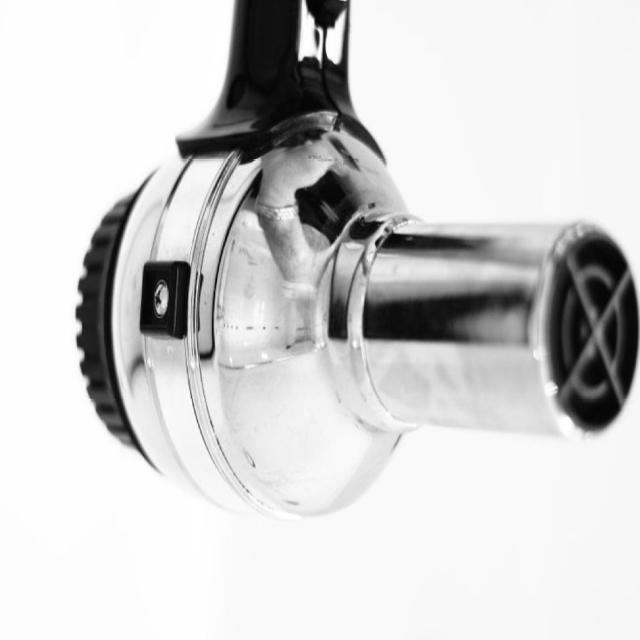dryer: (44, 0, 640, 557)
